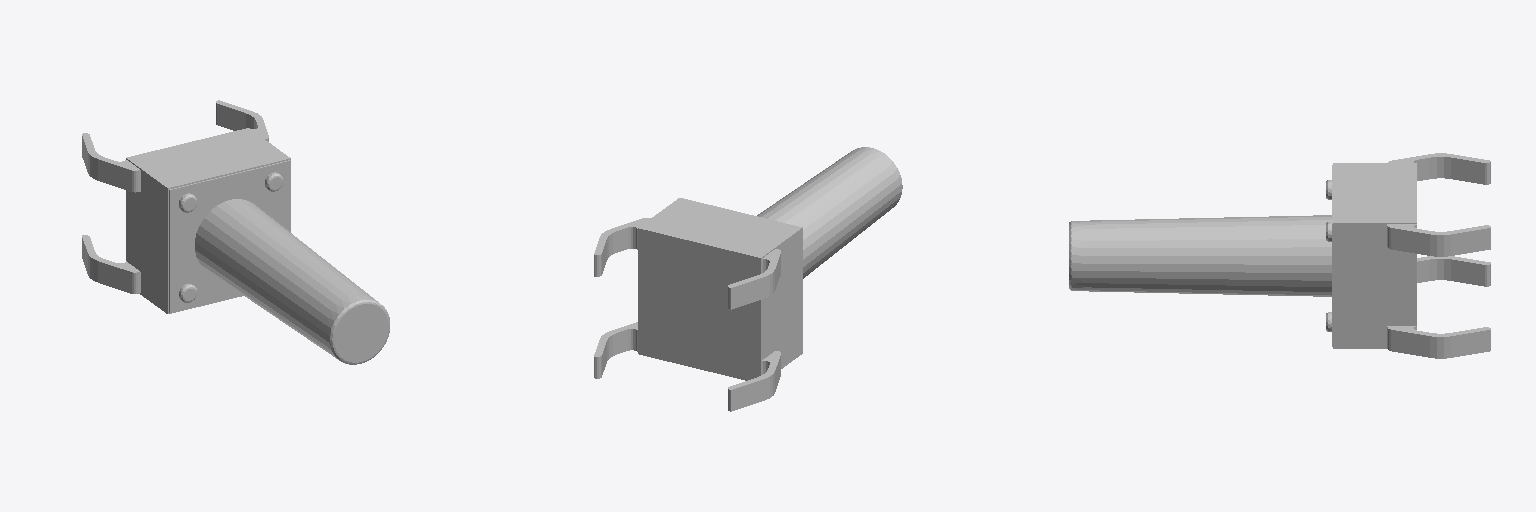
File: Tactal Switch -Thru (6mmx 6mmx15.0mm).obj
3 views of the same model, side by side, from view 1: azimuth 30°, elevation 25°; view 2: azimuth 150°, elevation 25°; view 3: azimuth 270°, elevation 25° (orthographic).
Visible parts, largest first — view 1: Solid1; view 2: Solid1; view 3: Solid1.
Part boxes in pixels (bbox=[...]): Solid1: bbox=[82, 100, 389, 364]; Solid1: bbox=[594, 147, 902, 411]; Solid1: bbox=[1069, 153, 1490, 358].
Size of the model in its own units: 8.35 by 5.99 by 18.18.